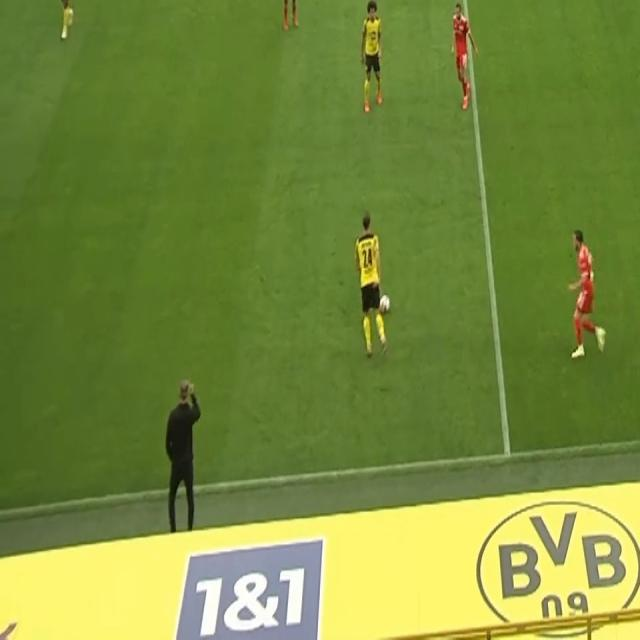ball: (378, 292, 392, 316)
